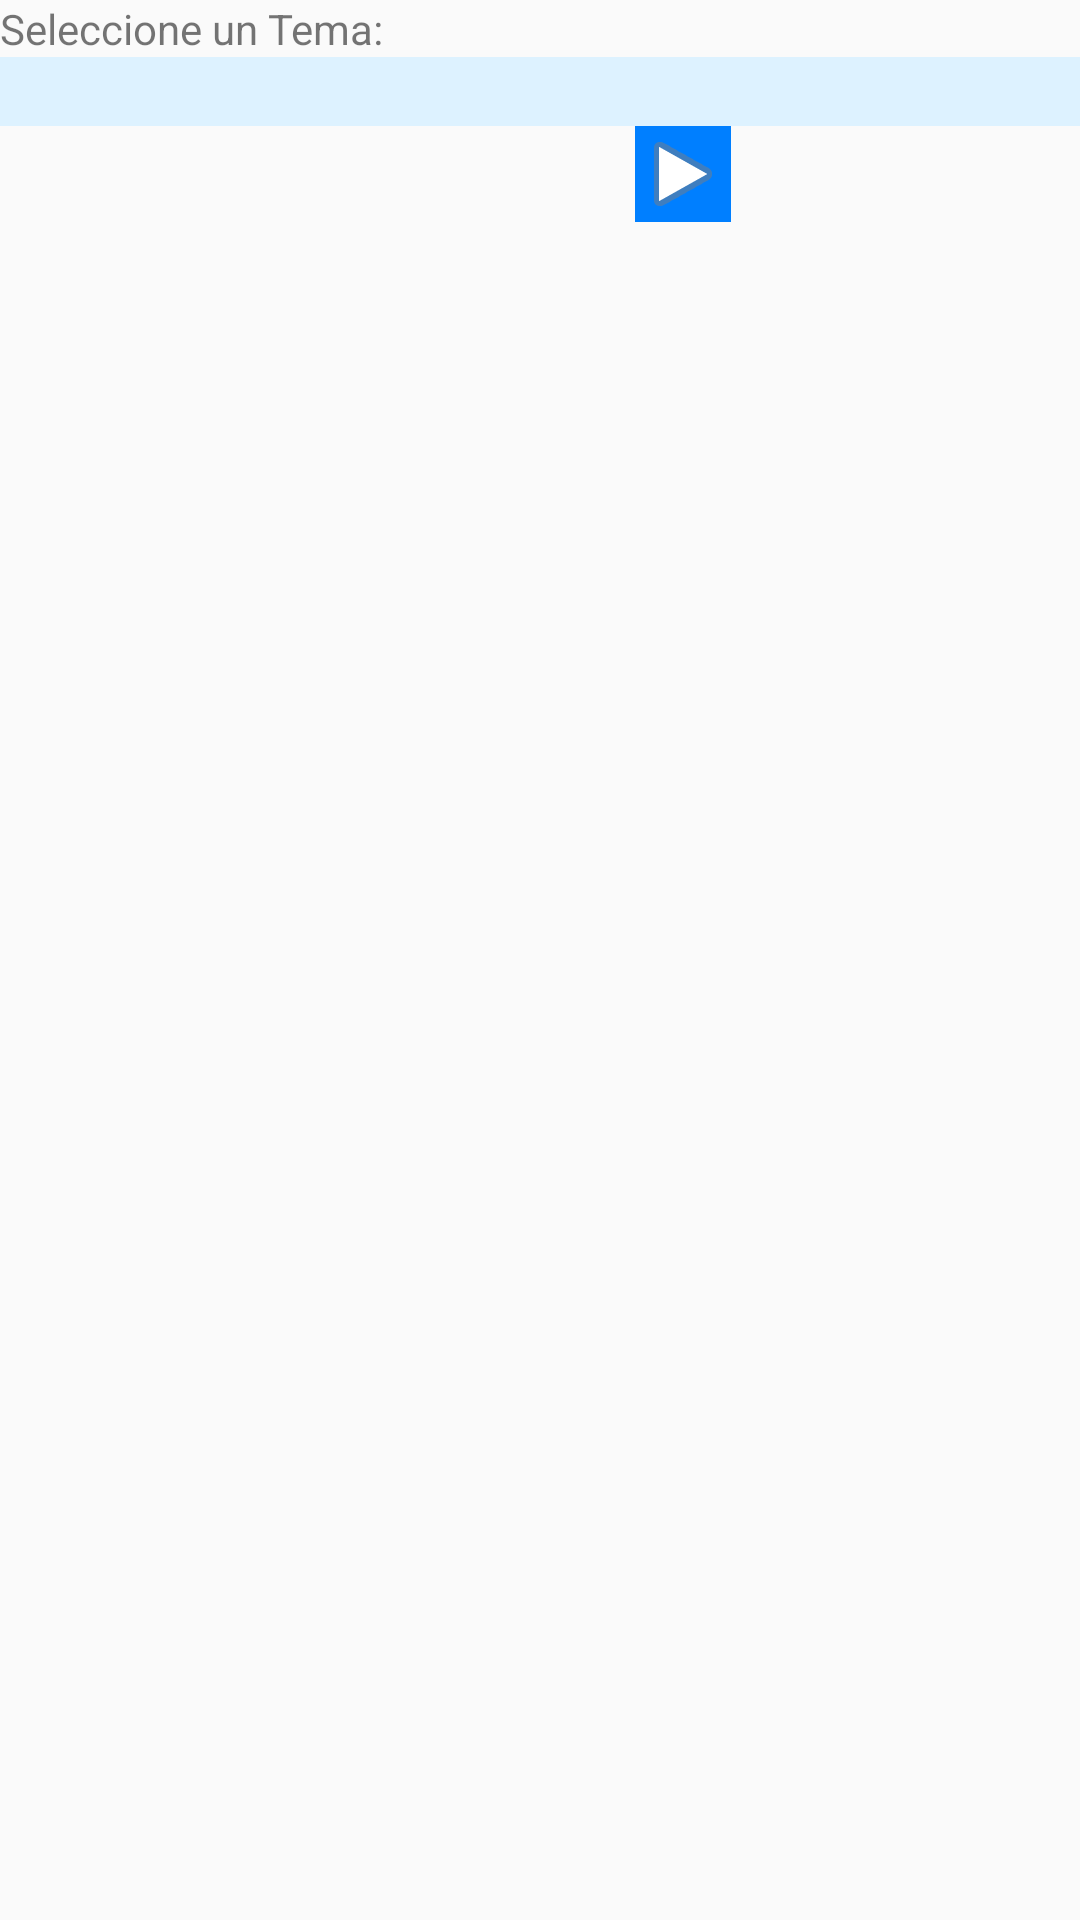

Icon bounding boxes for this 1080px x 1920px phone screenshot, format box(x1, y1, x2, y2):
play: box(635, 126, 731, 222)
